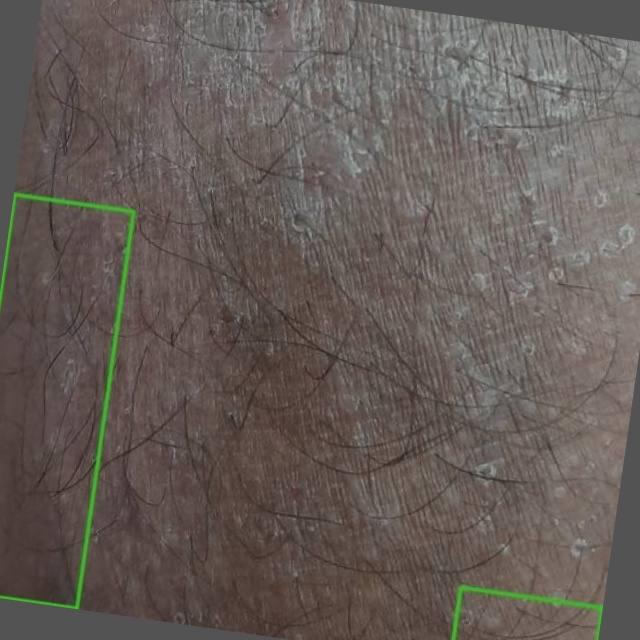Contact Dermatitis: (0, 194, 133, 608)
